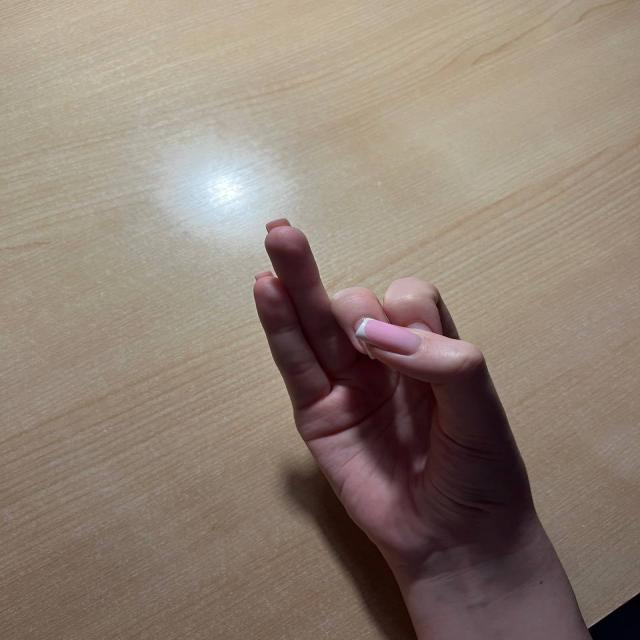i: (184, 206, 558, 576)
